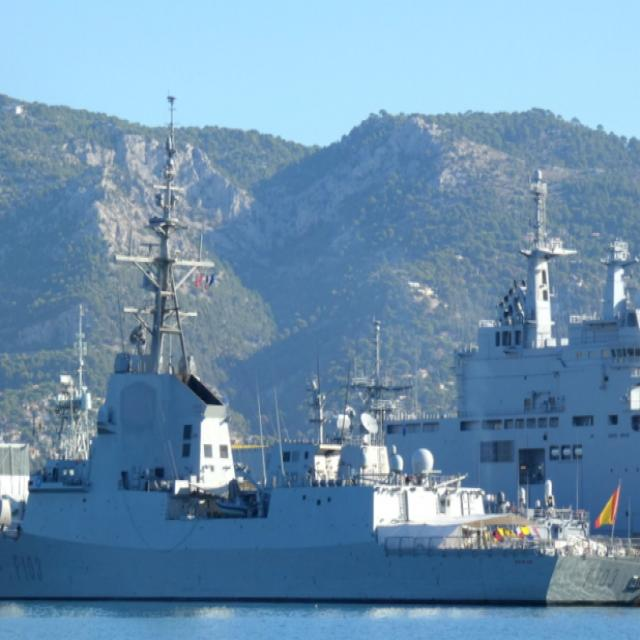Fragata: (1, 88, 640, 612)
